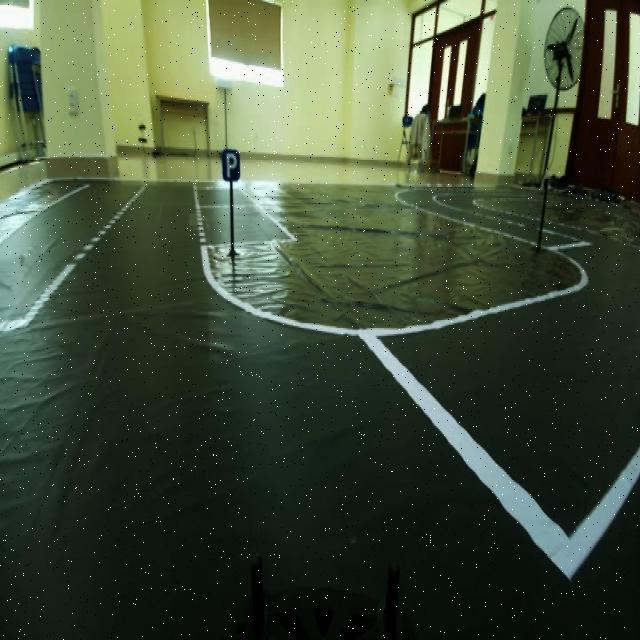parking: (217, 139, 246, 189)
